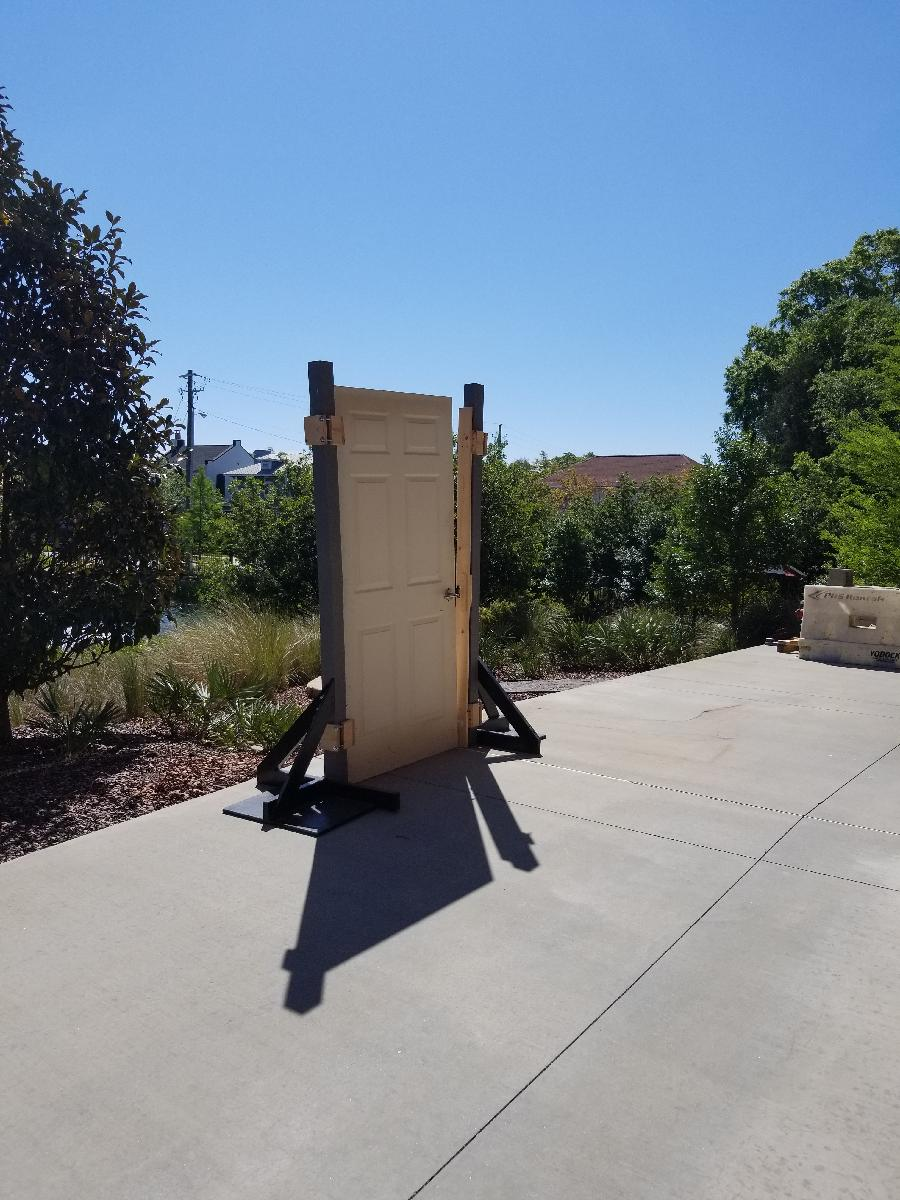door: (326, 382, 469, 792)
doorHandle: (436, 583, 463, 610)
